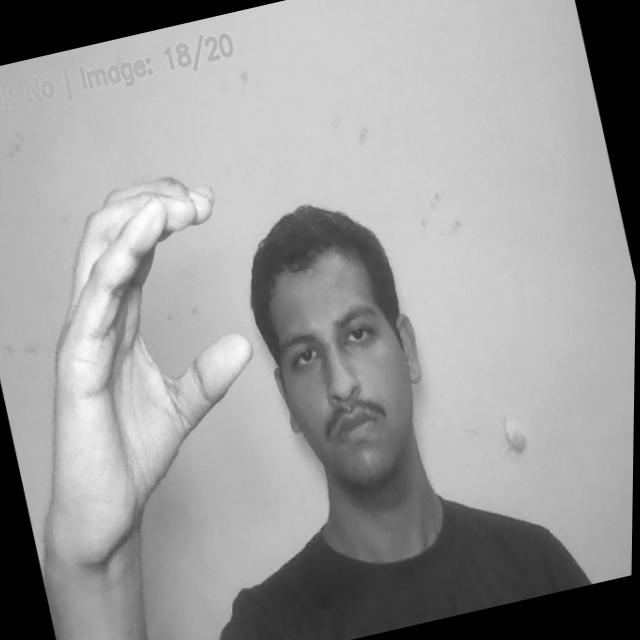No: (0, 164, 305, 604)
